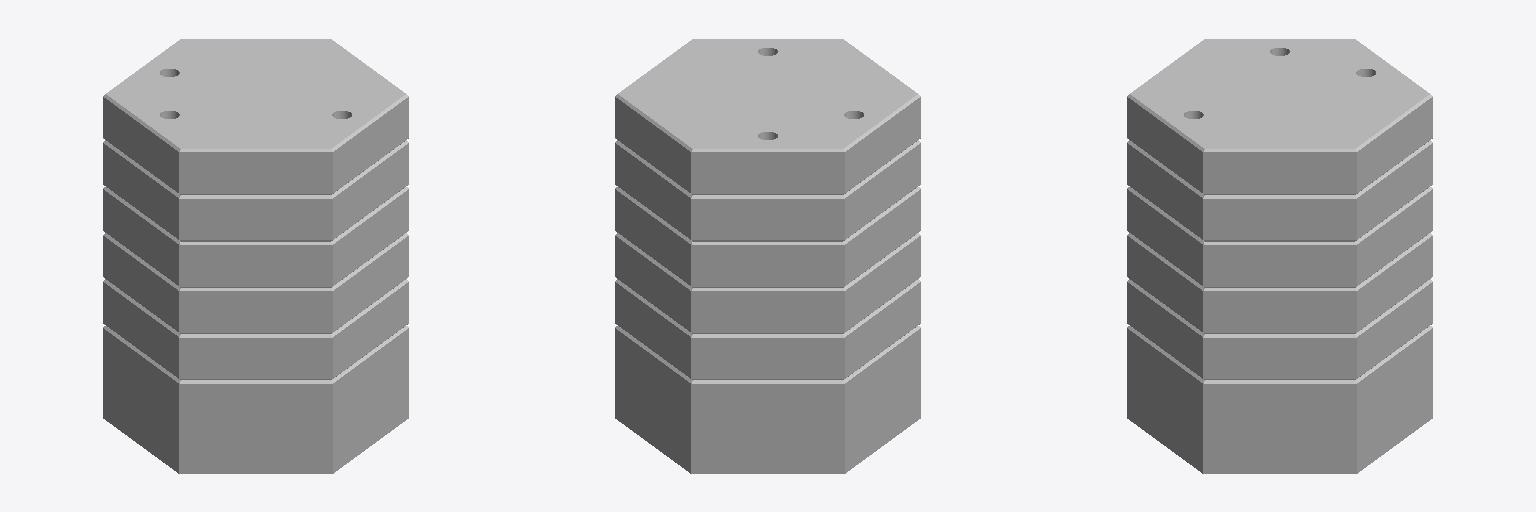
The model's file is lvl6C.obj.
The picture shows the model from 3 angles: view 1: azimuth 30°, elevation 25°; view 2: azimuth 150°, elevation 25°; view 3: azimuth 270°, elevation 25°; orthographic projection.
Parts seen in each view (by area): view 1: Lvl6C-3_(Mono-NoMags); view 2: Lvl6C-3_(Mono-NoMags); view 3: Lvl6C-3_(Mono-NoMags).
Part boxes in pixels (x1,y1,x2,y2): Lvl6C-3_(Mono-NoMags): (103,39,408,473); Lvl6C-3_(Mono-NoMags): (615,39,920,473); Lvl6C-3_(Mono-NoMags): (1127,39,1432,473).
Size of the model in its own units: 3.13 by 4.22 by 3.62.